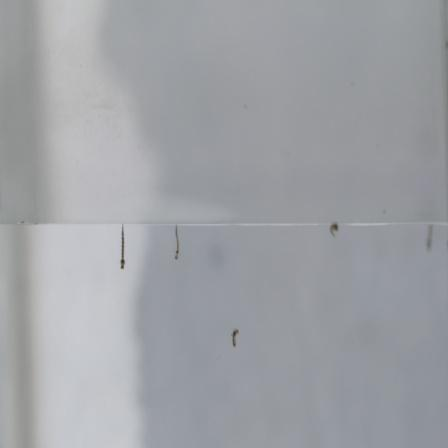Jentik-Nyamuk: (113, 221, 137, 273), (171, 220, 187, 263), (225, 324, 243, 350)
